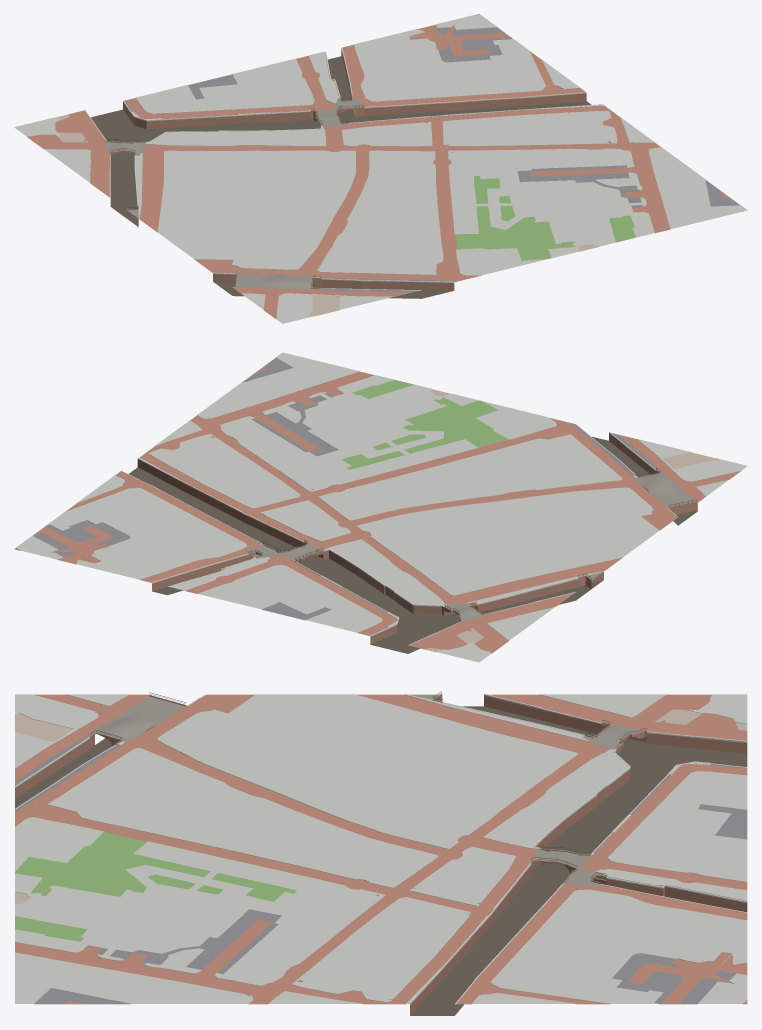
The model's file is ground_10_10.glb.
The picture shows the model from 3 angles, top to bottom: view 1: azimuth 30°, elevation 25°; view 2: azimuth 150°, elevation 25°; view 3: azimuth 270°, elevation 25°; orthographic projection. The views are drawn at different scales.
Visible parts, largest first — view 1: ground_10_10; view 2: ground_10_10; view 3: ground_10_10.
Part boxes in pixels (x1,y1,x2,y2): ground_10_10: [14, 14, 747, 323]; ground_10_10: [14, 352, 747, 662]; ground_10_10: [14, 691, 747, 1015].
Bounding box in the file's own units: 200 × 5.05 × 200.
